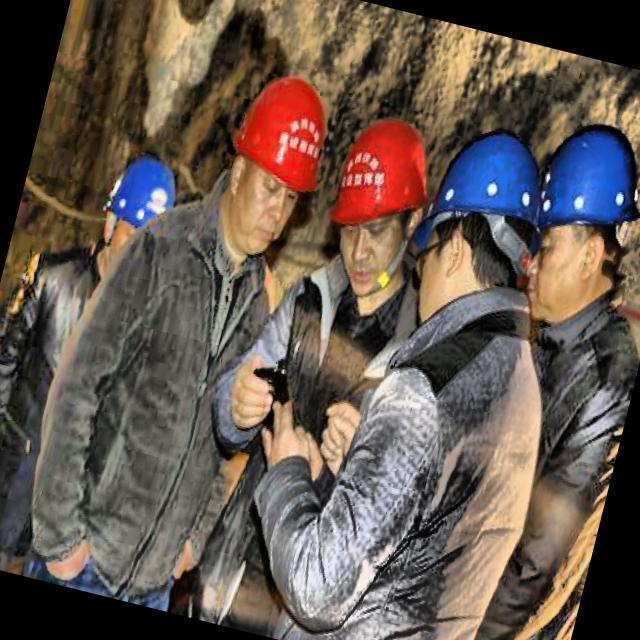helmet: (397, 122, 551, 328), (506, 108, 640, 328), (200, 62, 339, 265), (317, 110, 446, 300), (82, 144, 197, 306)
